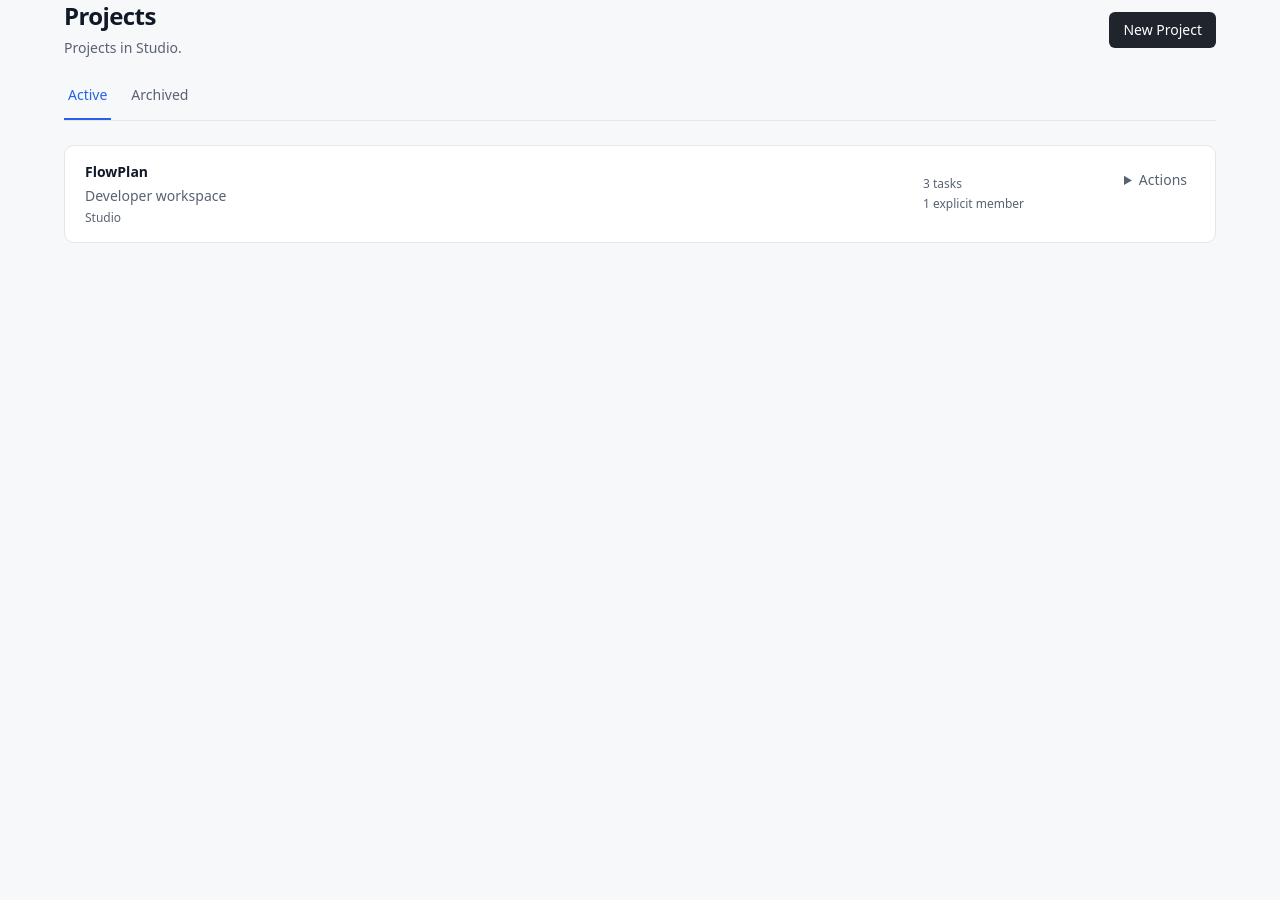
it: New Project opens the real modal, resets on Cancel and submits in the selected Organization
Check: the link "FlowPlan" is shown, box [85,162,1099,226]
Click the button "New Project" at (1163, 30), box [1109,12,1216,48]
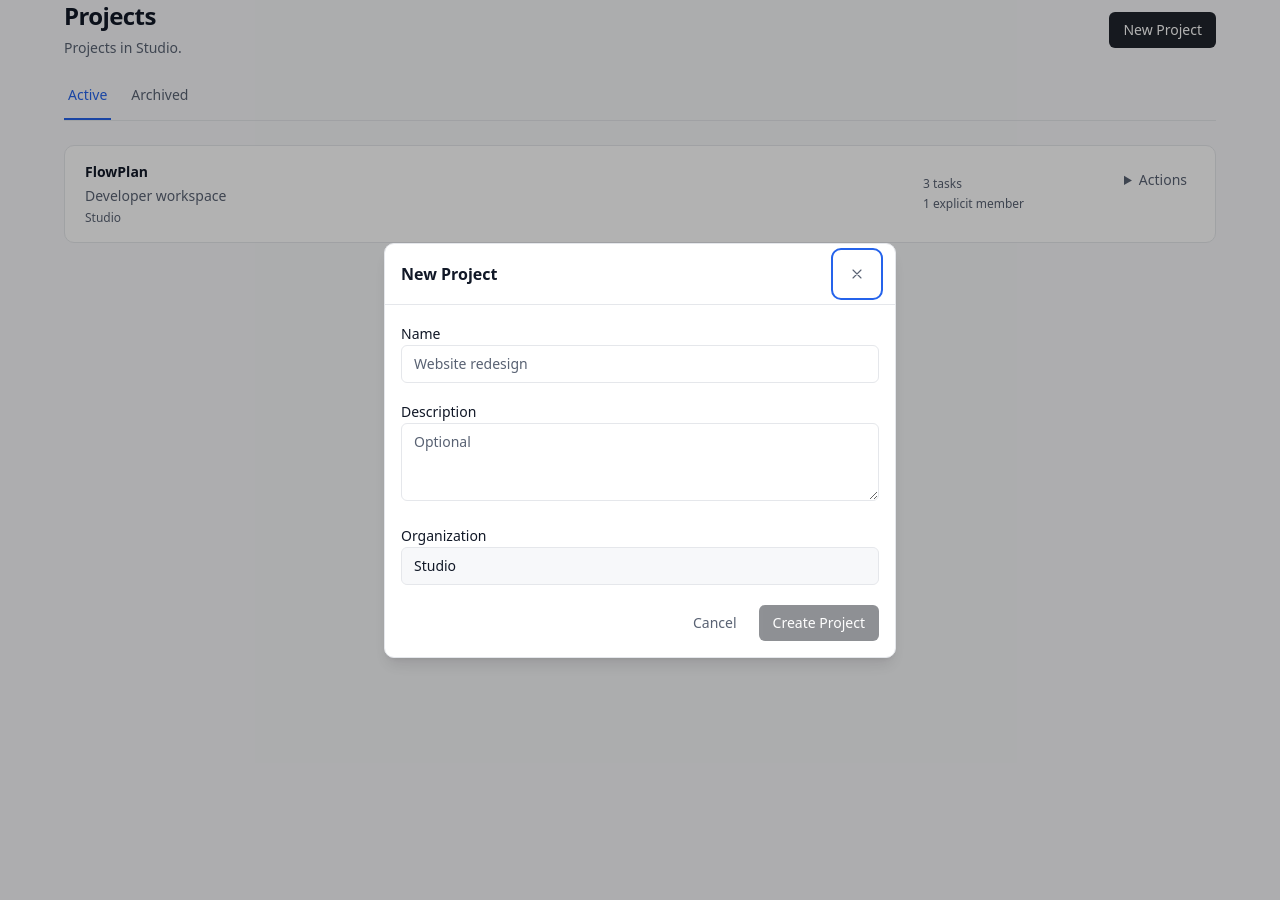
Check: the button "Create Project" is disabled, box [759,604,879,640]
Check: the text "Studio" is shown, box [401,546,879,584]
Type "Discarded draft" into the field labelled "Name" at (640, 364), box [401,344,879,382]
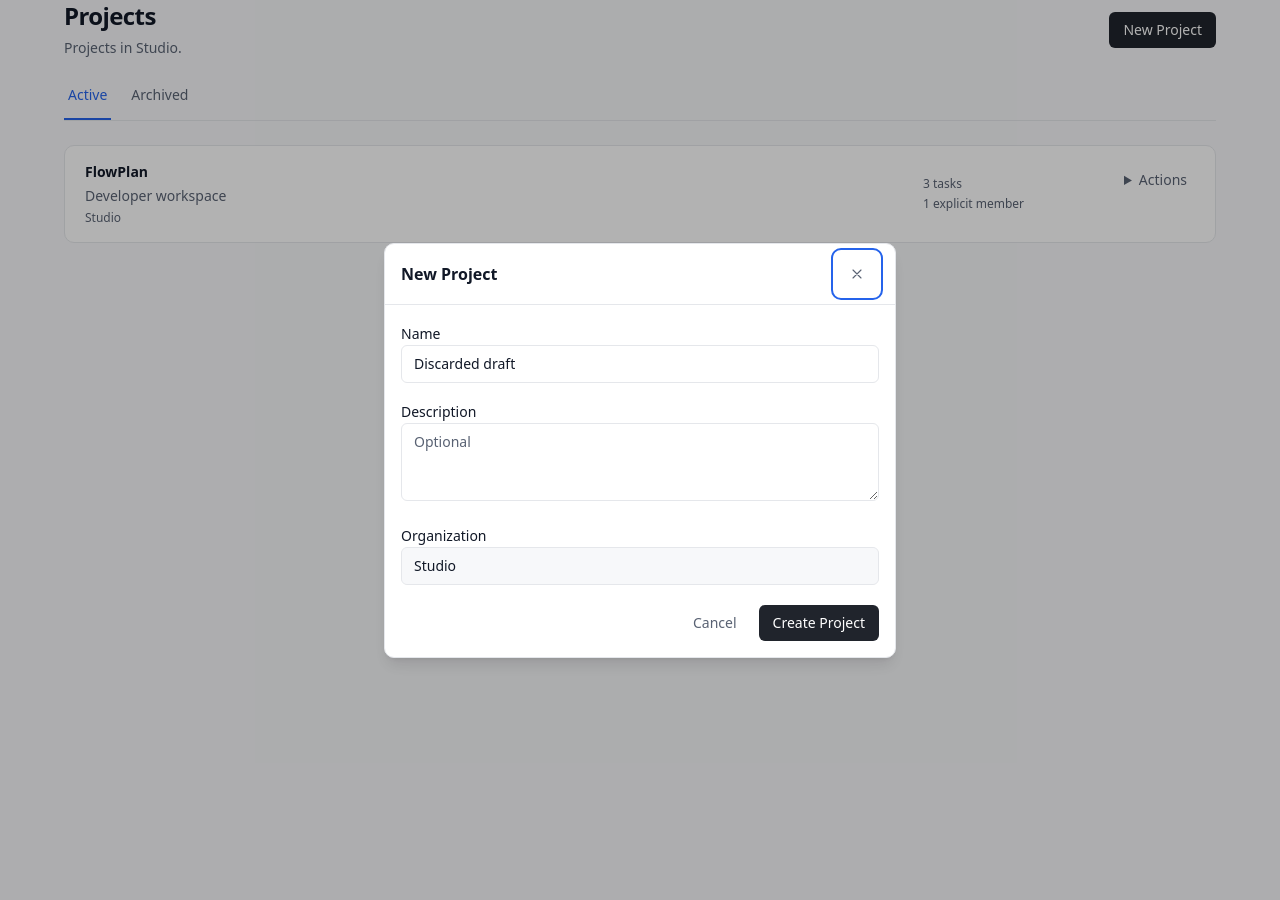
Click the button "Cancel" at (715, 622), box [679,604,751,640]
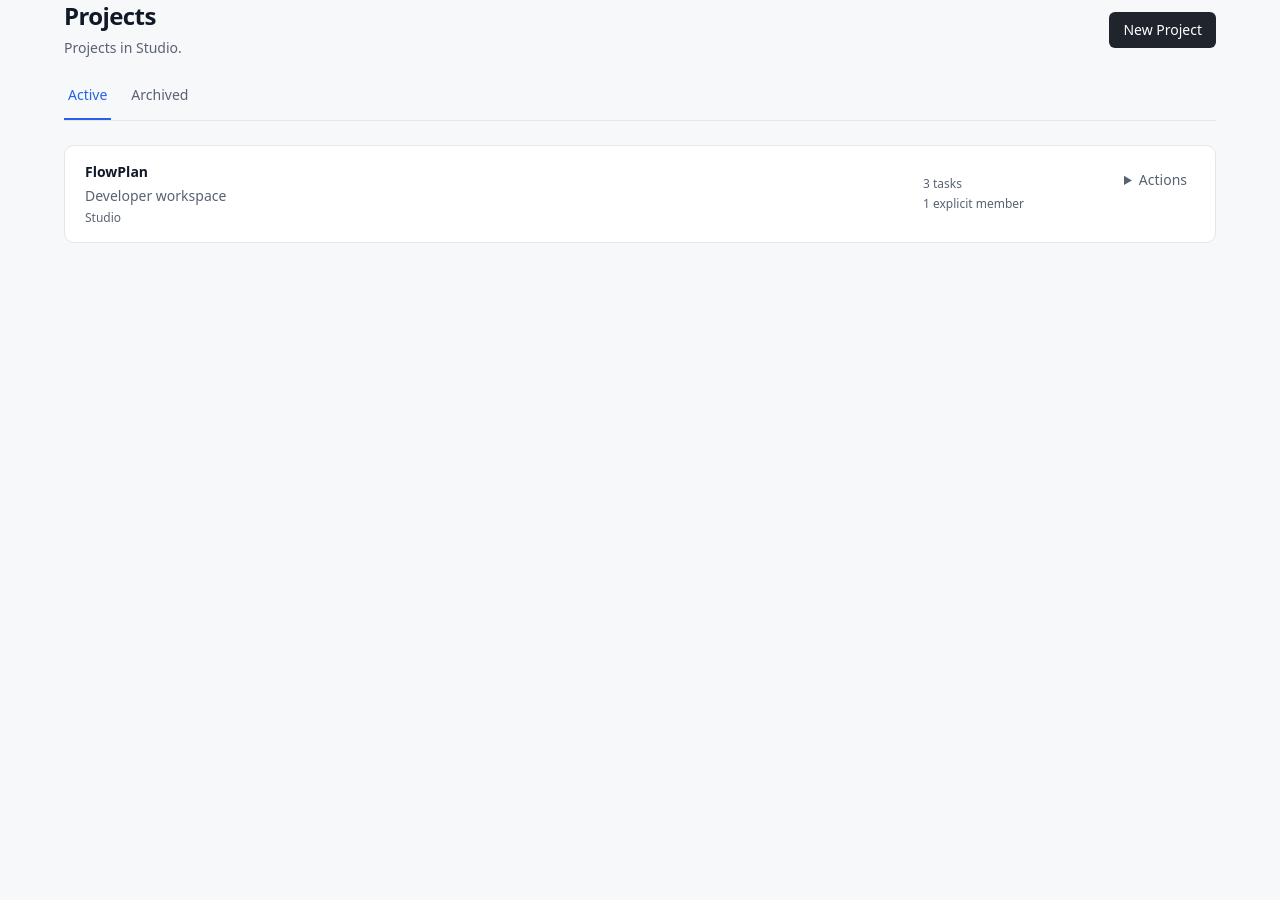
Check: the dialog is gone
Click the button "New Project" at (1163, 30), box [1109,12,1216,48]
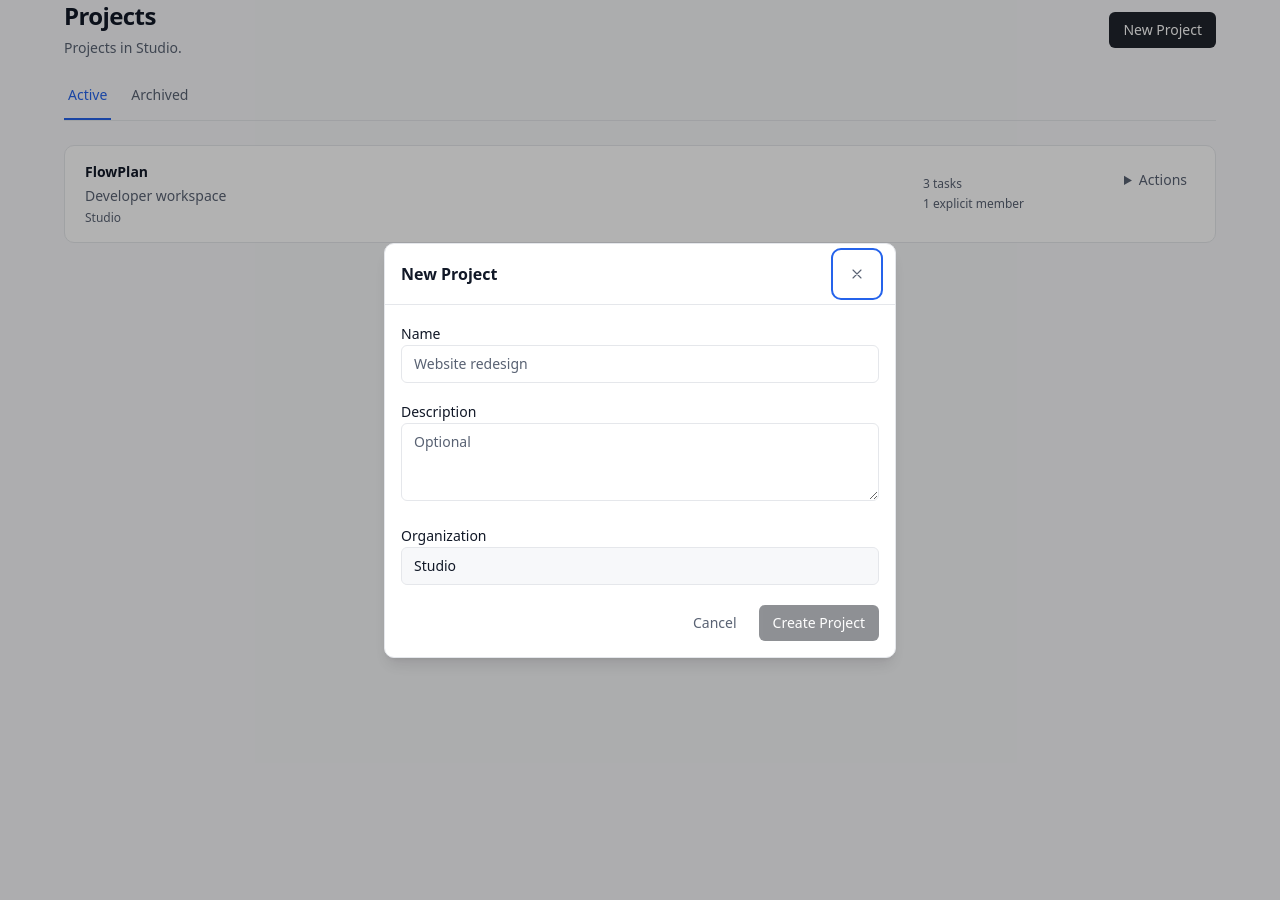
Check: the field labelled "Name" is empty
Type "  New workspace  " into the field labelled "Name" at (640, 364), box [401,344,879,382]
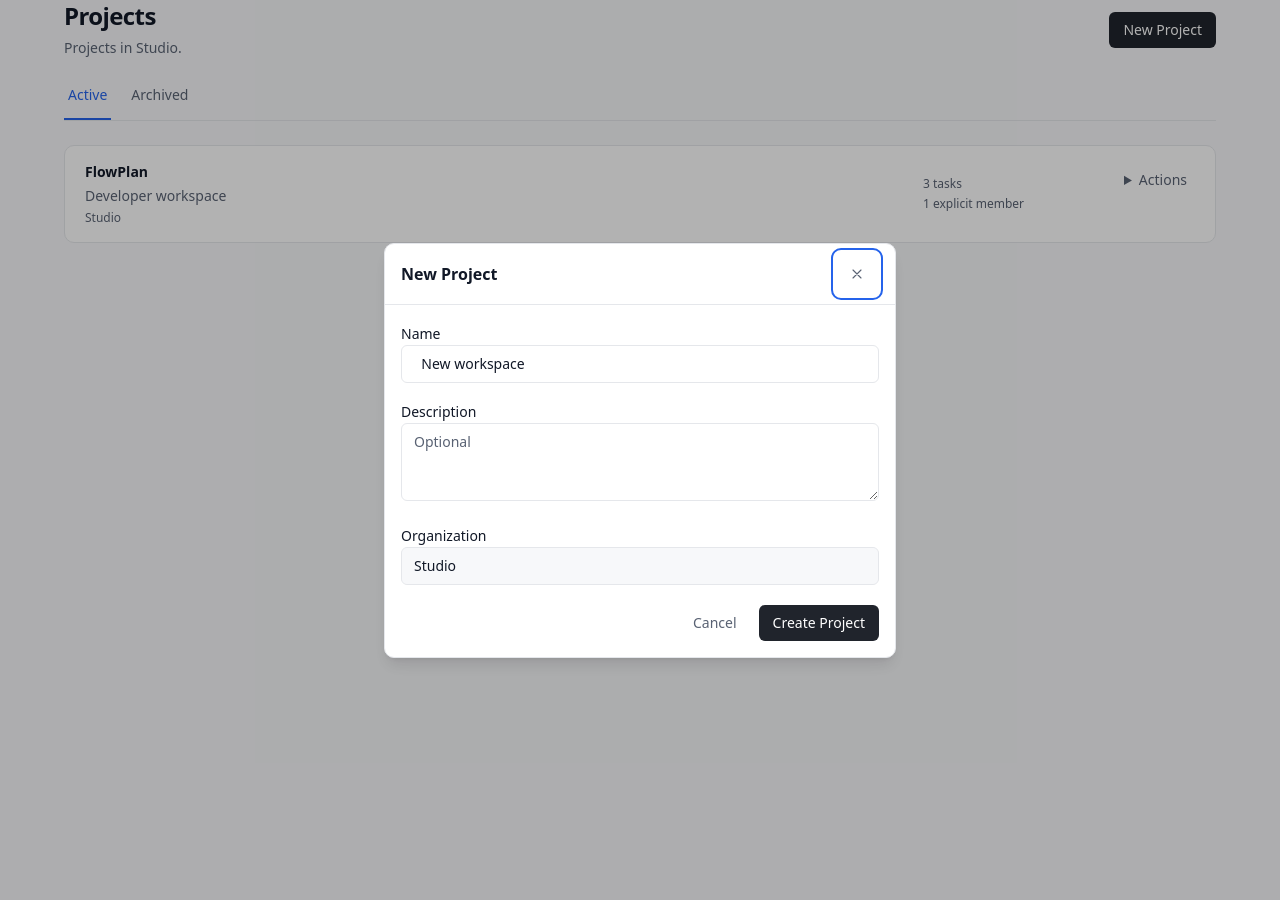
Type "  Project notes  " into the text box labelled "Description" at (640, 462), box [401,422,879,500]
Click the button "Create Project" at (819, 622), box [759,604,879,640]
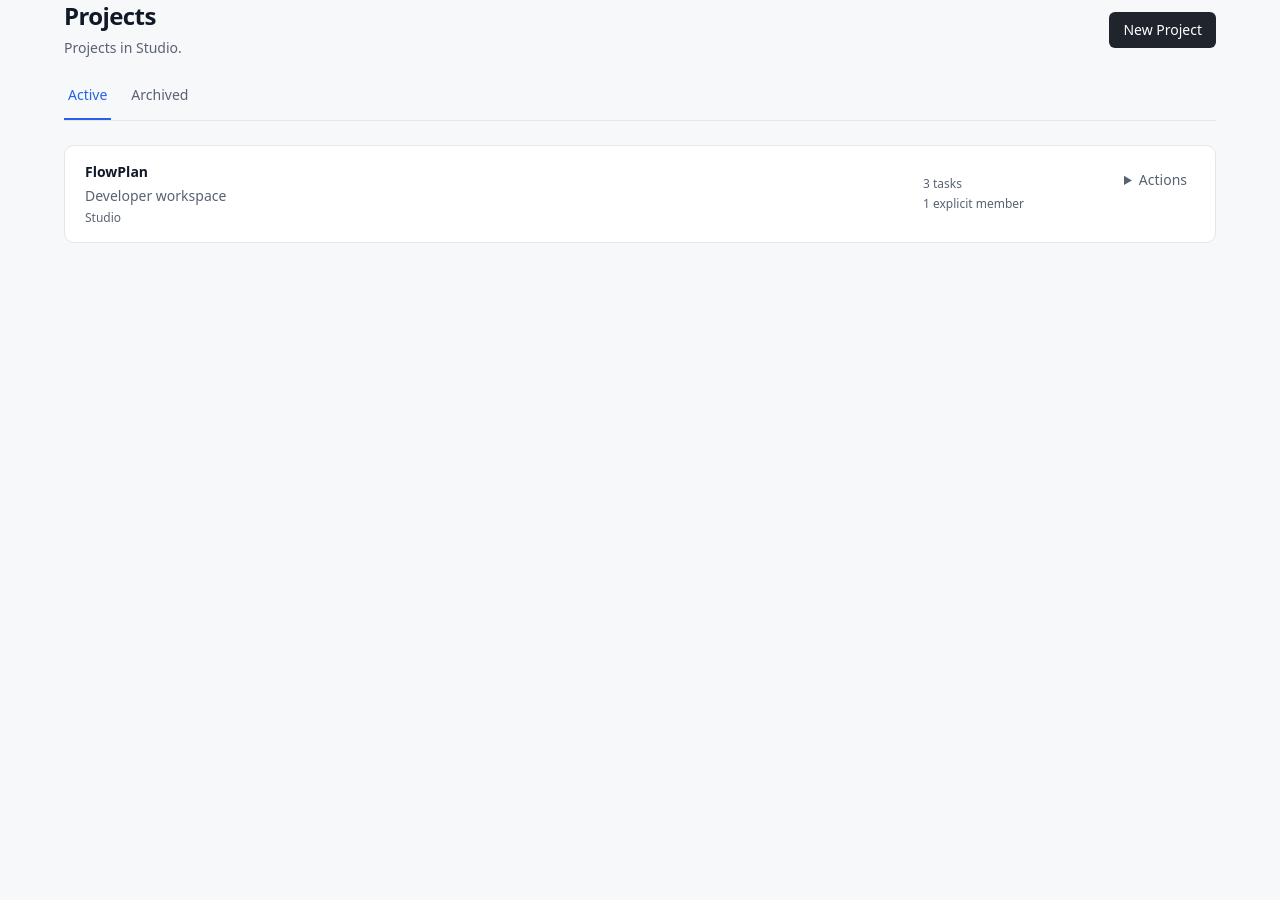
Check: the dialog is gone
